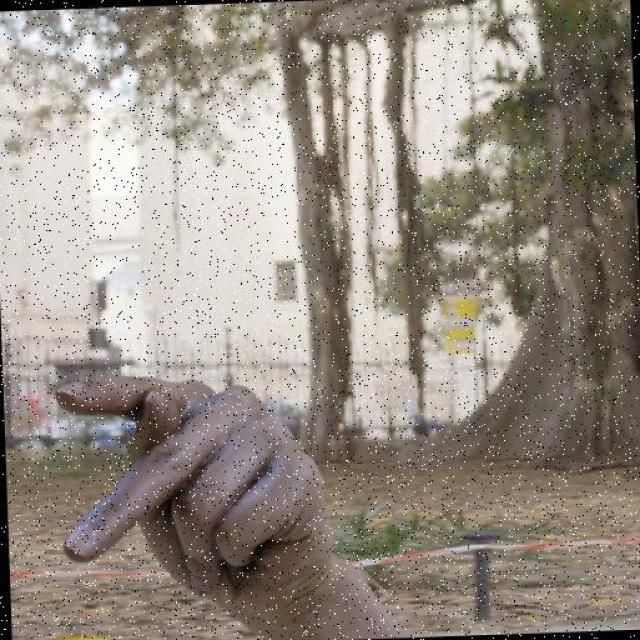P: (51, 363, 344, 626)
